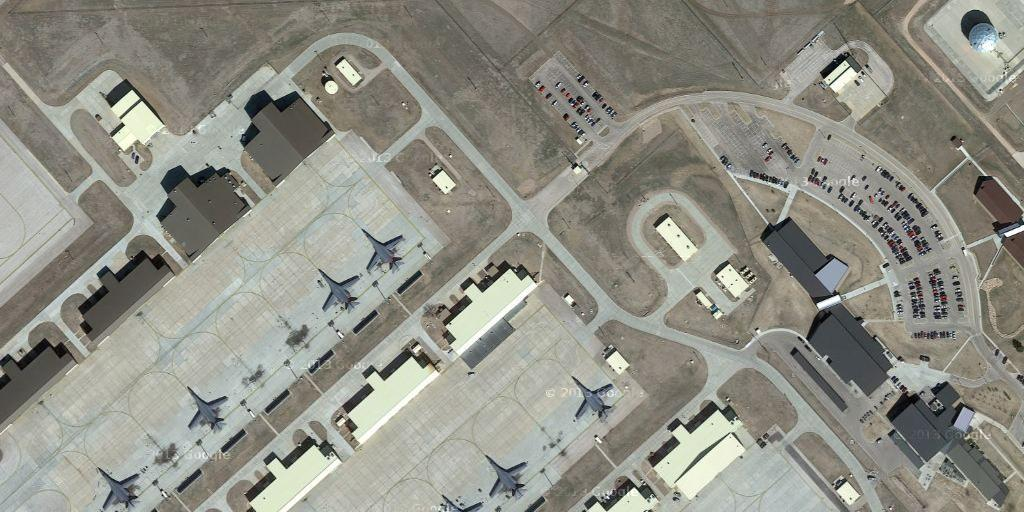B-1B: (568, 374, 616, 425), (316, 266, 363, 316), (94, 464, 146, 509), (185, 384, 230, 435), (359, 228, 406, 276), (483, 452, 528, 501)
